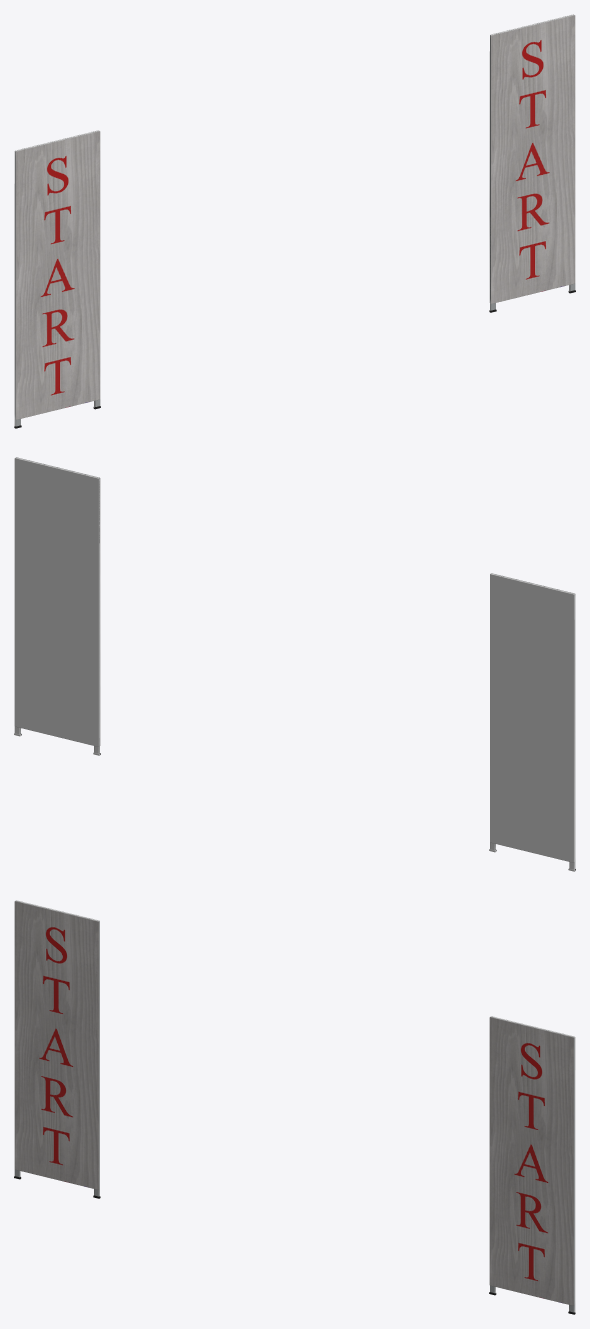
File: Start.glb
3 renders of one model, top to bottom at view 1: azimuth 30°, elevation 25°; view 2: azimuth 150°, elevation 25°; view 3: azimuth 330°, elevation 25°, orthographic.
Parts seen in each view (by area): view 1: StandEvery3DEngFold_EnglishText_0.001, StandEvery3DEngFold_EnglishText_0.002, StandEvery3DEngFold_EnglishText_0.003, StandEvery3DEngFold_EnglishText_0.004; view 2: StandEvery3DEngFold_EnglishText_0.004, StandEvery3DEngFold_EnglishText_0.003, StandEvery3DEngFold_EnglishText_0.001; view 3: StandEvery3DEngFold_EnglishText_0.002, StandEvery3DEngFold_EnglishText_0.001, StandEvery3DEngFold_EnglishText_0.004.
Boxes of the visible parts, x1,y1,x2,y2 form: StandEvery3DEngFold_EnglishText_0.001: (489, 15, 575, 312); StandEvery3DEngFold_EnglishText_0.002: (14, 130, 100, 428); StandEvery3DEngFold_EnglishText_0.003: (14, 130, 98, 427); StandEvery3DEngFold_EnglishText_0.004: (489, 14, 573, 311); StandEvery3DEngFold_EnglishText_0.004: (14, 458, 100, 755); StandEvery3DEngFold_EnglishText_0.003: (489, 573, 575, 871); StandEvery3DEngFold_EnglishText_0.001: (16, 457, 100, 754); StandEvery3DEngFold_EnglishText_0.002: (14, 900, 100, 1198); StandEvery3DEngFold_EnglishText_0.001: (489, 1017, 575, 1314); StandEvery3DEngFold_EnglishText_0.004: (491, 1016, 575, 1313).
Size of the model in its own units: 34.02 by 16.07 by 0.1448.
Materials: 3 (2 with a texture image).
